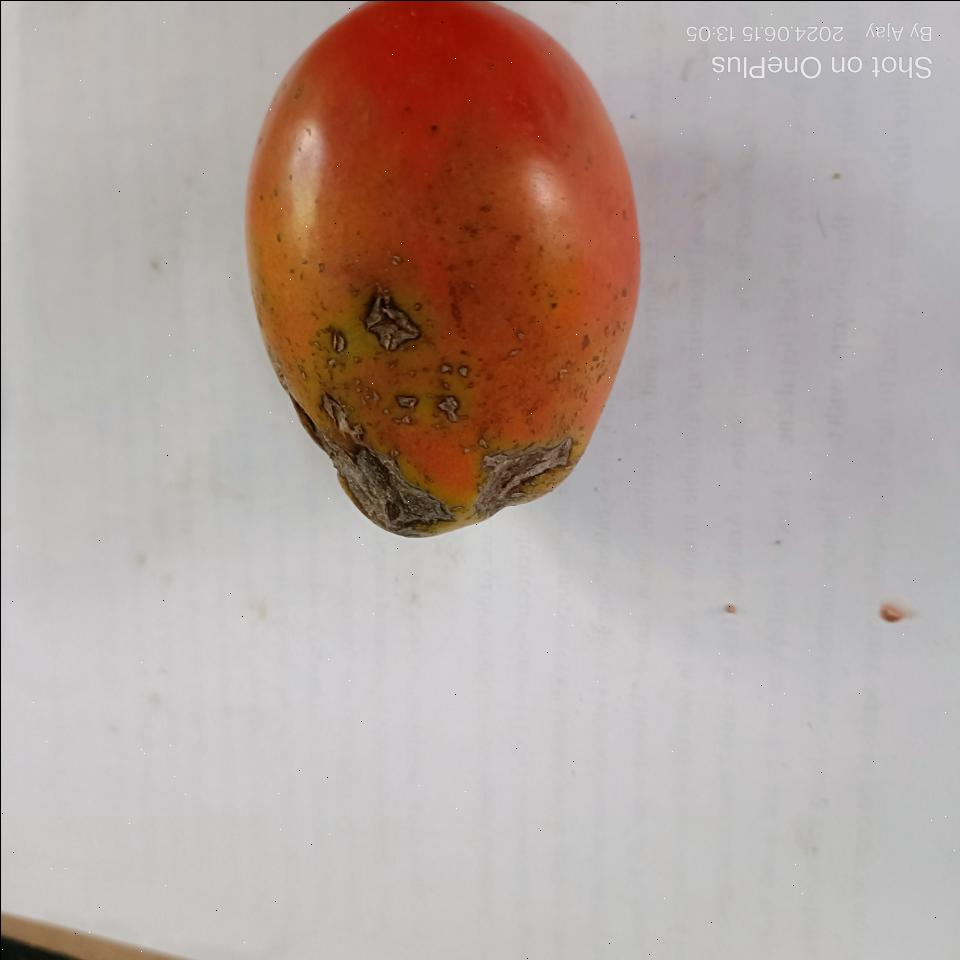Bacterial_Spot: (300, 382, 576, 540), (324, 288, 423, 364)
